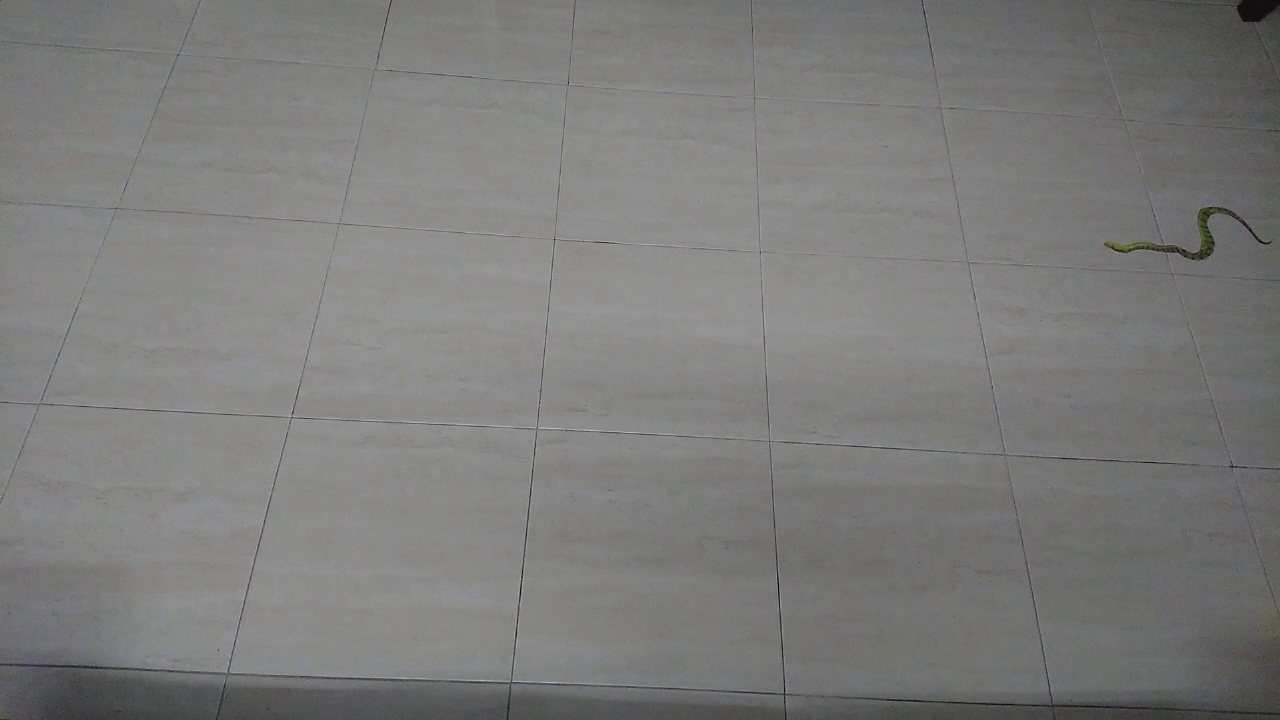snake: (1094, 189, 1280, 279)
